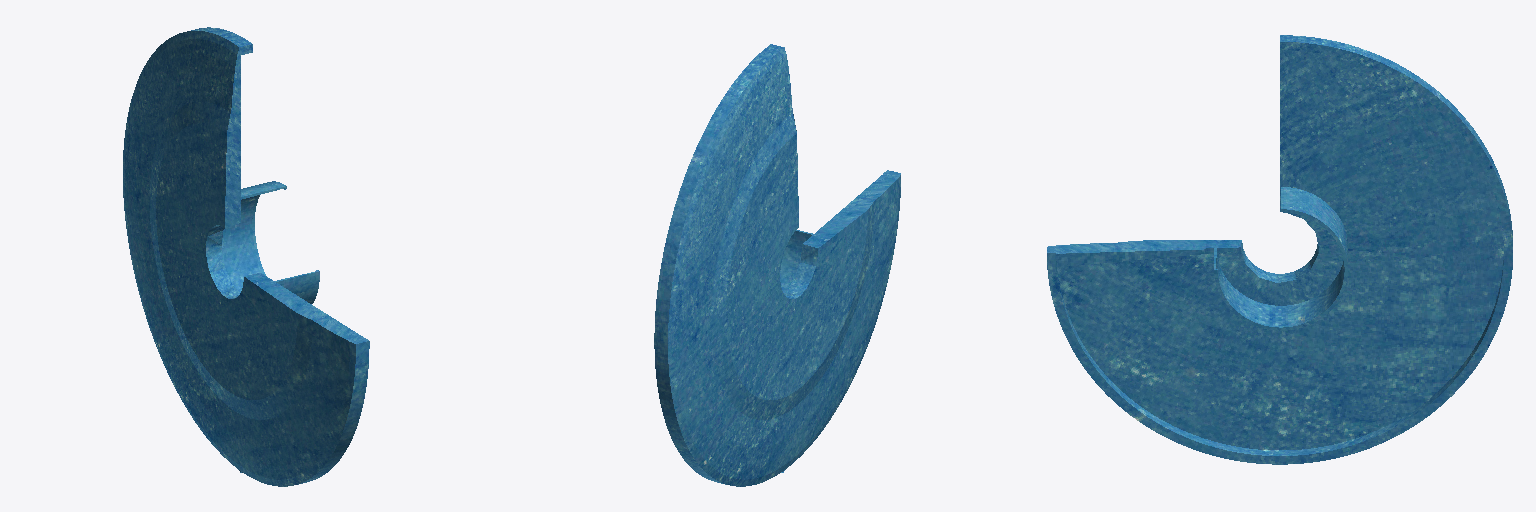
3 renders of one model, left to right at view 1: azimuth 30°, elevation 25°; view 2: azimuth 150°, elevation 25°; view 3: azimuth 270°, elevation 25°, orthographic.
Parts seen in each view (by area): view 1: Cylinder.042; view 2: Cylinder.042; view 3: Cylinder.042.
Boxes of the visible parts, box(x1,y1,x2,y2) form: Cylinder.042: box(123, 27, 369, 486); Cylinder.042: box(654, 44, 900, 486); Cylinder.042: box(1047, 35, 1512, 464).
Size of the model in its own units: 0.019 by 0.1238 by 0.1231.
Materials: 1 (1 with a texture image).